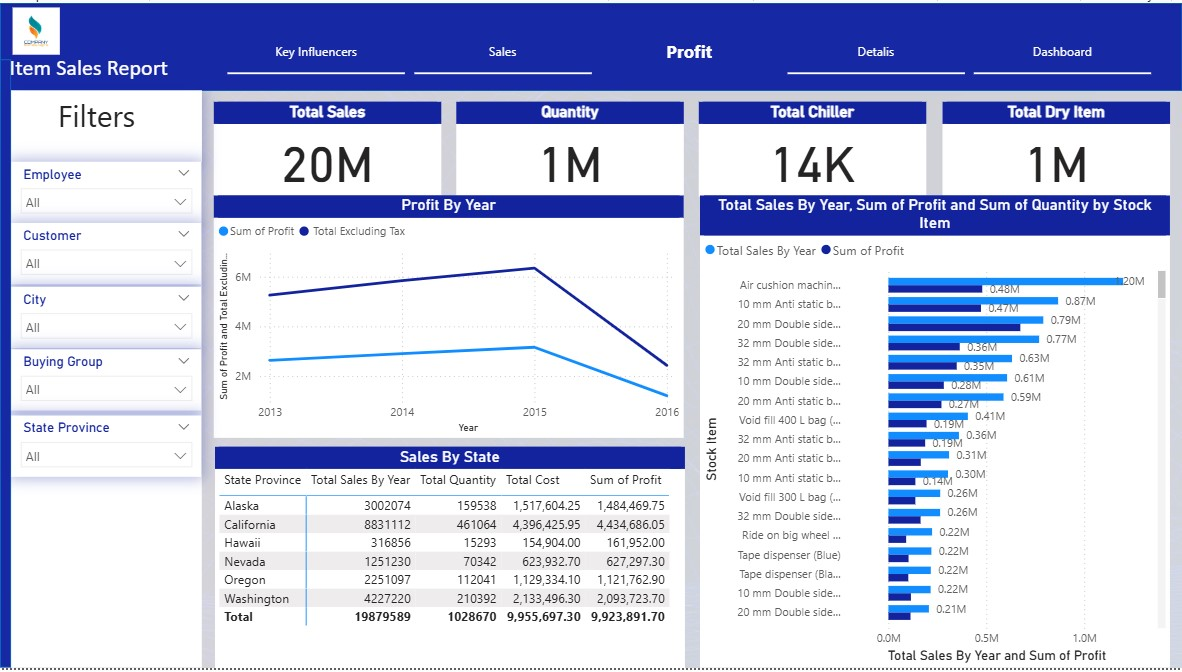

The page's visual inventory and layout, read from the dashboard file:
{"tool":"powerbi","page":{"name":"Profit","canvas":[1280,720],"ordinal":2},"visuals":[{"type":"shape","box":[0,0,1280,95.3],"z":0},{"type":"shape","box":[0,61.3,12.1,658.7],"z":1000},{"type":"shape","box":[12.1,95.1,206.3,624.9],"z":2000},{"type":"textbox","box":[6,50.7,334.2,44.6],"z":3000},{"type":"image","box":[0,0,78.8,61.2],"z":4000},{"type":"card","title":"Total Sales","fields":{"Values":["Sum(FactSale.Total Excluding Tax)"]},"box":[231.2,106.2,246.2,102.5],"z":5000},{"type":"card","title":"Quantity","fields":{"Values":["Sum(FactSale.Quantity)"]},"box":[494.2,106.2,246.2,102.5],"z":6000},{"type":"card","title":"Total Chiller","fields":{"Values":["Sum(FactSale.Total Chiller Items)"]},"box":[757.1,106.2,246.2,102.5],"z":7000},{"type":"card","title":"Total Dry Item","fields":{"Values":["Sum(FactSale.Total Dry Items)"]},"box":[1020,106.2,246.2,102.5],"z":8000},{"type":"textbox","box":[12.5,95,206.2,77.5],"z":9000},{"type":"lineChart","title":"Profit  By Year","fields":{"Category":["DimDate.Date.Variation.Date Hierarchy.Year"],"Y":["Sum(FactSale.Profit)","Sum(FactSale.Total Excluding Tax)"]},"box":[231.2,208.8,508.8,262.5],"z":10000},{"type":"clusteredBarChart","fields":{"Category":["DimStocItem.Stock Item"],"Y":["Sum(FactSale.Total Excluding Tax)","Sum(FactSale.Profit)"]},"box":[757.5,208.8,508.8,511.2],"z":11000},{"type":"pivotTable","title":"Sales By State","fields":{"Values":["Sum(FactSale.Total Excluding Tax)","Sum(FactSale.Quantity)","Sum(FactSale.Cost)","Sum(FactSale.Profit)"],"Rows":["DimCity.State Province"]},"box":[232.5,480,508.8,240],"z":12000},{"type":"slicer","fields":{"Values":["DimEmployee.Employee"]},"box":[12.2,171.9,205.7,66.3],"z":13000},{"type":"slicer","fields":{"Values":["DimCustomer.Customer"]},"box":[12.2,238.2,205.7,66.3],"z":14000},{"type":"slicer","fields":{"Values":["DimCity.City"]},"box":[12.2,307.2,205.7,66.3],"z":15000},{"type":"slicer","fields":{"Values":["DimCustomer.Buying Group"]},"box":[12.2,374.9,205.7,66.3],"z":16000},{"type":"slicer","fields":{"Values":["DimCity.State Province"]},"box":[12.2,446.6,205.7,66.3],"z":17000},{"type":"pageNavigator","box":[246.3,27.1,1000.1,50.1],"z":18000}]}

Visuals, with their boxes in screenshot pixels (x1, y1, x2, y2), scaled from the page's 1280x720 canvas onto the 1182x672 screenshot:
shape: region(0, 0, 1181, 89)
shape: region(0, 57, 11, 671)
shape: region(11, 89, 202, 671)
textbox: region(6, 47, 314, 89)
image: region(0, 0, 73, 57)
"Total Sales" card: region(213, 99, 441, 195)
"Quantity" card: region(456, 99, 684, 195)
"Total Chiller" card: region(699, 99, 926, 195)
"Total Dry Item" card: region(942, 99, 1169, 195)
textbox: region(12, 89, 202, 161)
"Profit  By Year" lineChart: region(213, 195, 683, 440)
clusteredBarChart - DimStocItem.Stock Item x Sum(FactSale.Total Excluding Tax): region(700, 195, 1169, 671)
"Sales By State" pivotTable: region(215, 448, 685, 671)
slicer - DimEmployee.Employee: region(11, 160, 201, 222)
slicer - DimCustomer.Customer: region(11, 222, 201, 284)
slicer - DimCity.City: region(11, 287, 201, 349)
slicer - DimCustomer.Buying Group: region(11, 350, 201, 412)
slicer - DimCity.State Province: region(11, 417, 201, 479)
pageNavigator: region(227, 25, 1151, 72)
